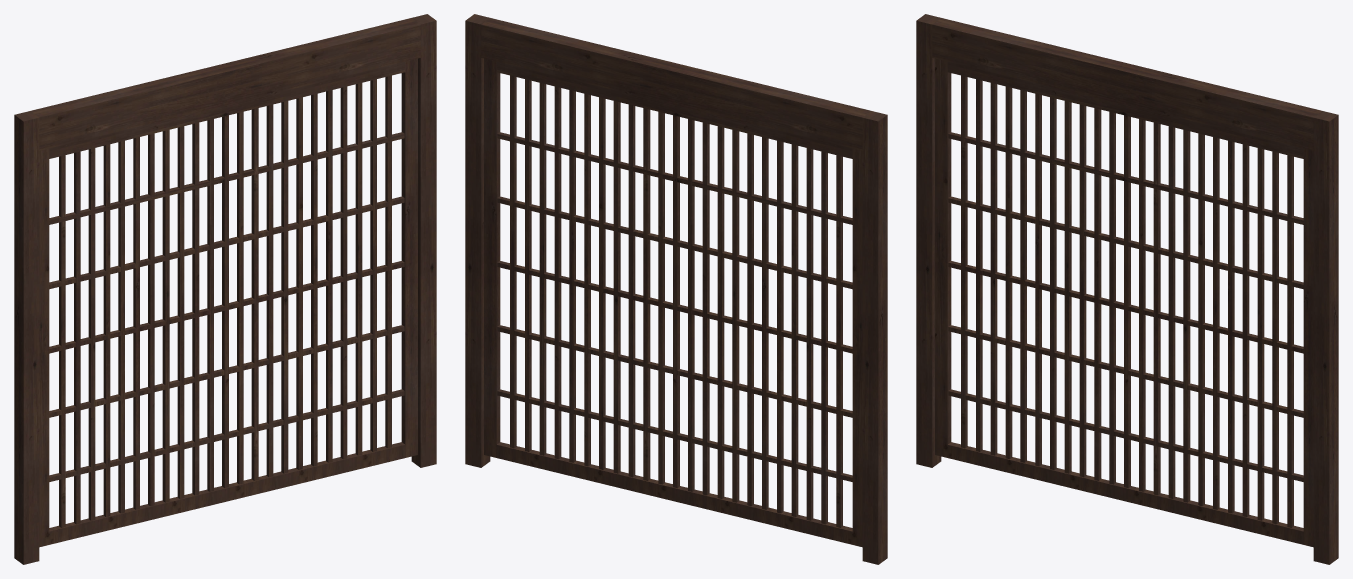
The model's file is EShosogoushi_h2000_darkpine.fbx.
3 views of the same model, side by side, from view 1: azimuth 30°, elevation 25°; view 2: azimuth 150°, elevation 25°; view 3: azimuth 330°, elevation 25° (orthographic).
Visible parts, largest first — view 1: EShosogoushi_h2000_darkpine; view 2: EShosogoushi_h2000_darkpine; view 3: EShosogoushi_h2000_darkpine.
Part boxes in pixels (x1,y1,x2,y2): EShosogoushi_h2000_darkpine: [14, 14, 436, 564]; EShosogoushi_h2000_darkpine: [465, 14, 887, 564]; EShosogoushi_h2000_darkpine: [916, 14, 1338, 564].
Size of the model in its own units: 195 by 200 by 7.5.
1 material, 1 textured.
